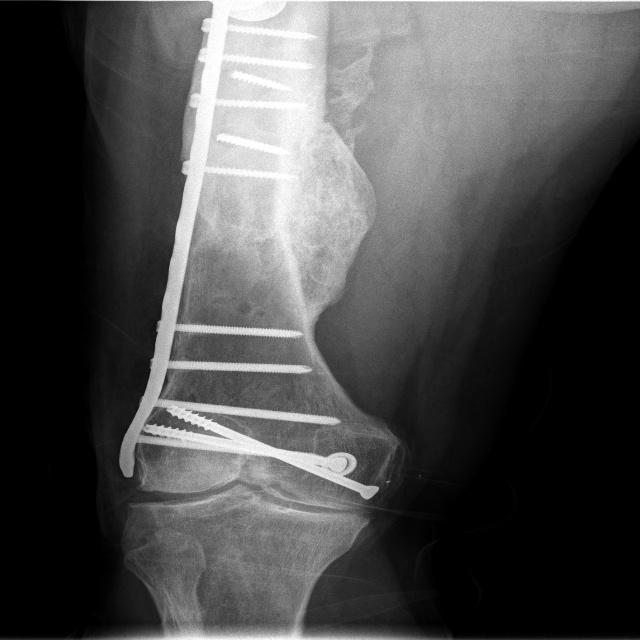Knee: (115, 407, 399, 569)
